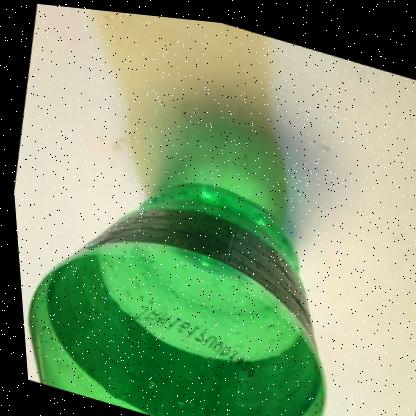Plastic: (24, 177, 320, 416)
